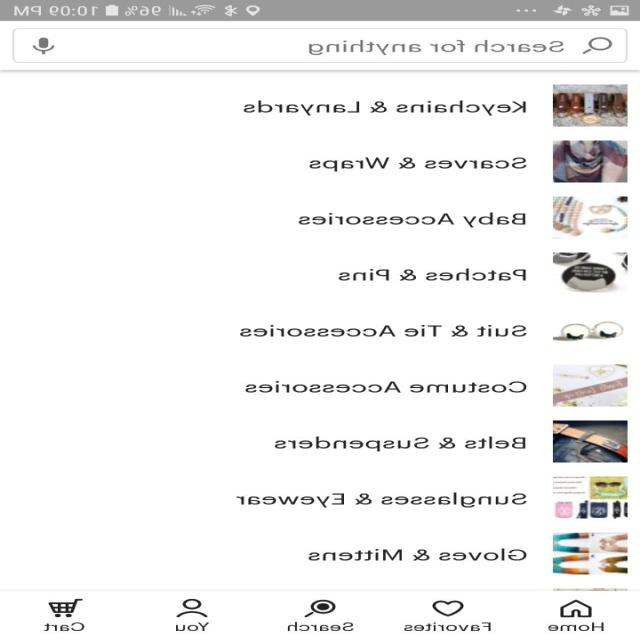EditText: (13, 28, 628, 63)
Icon: (49, 598, 85, 617), (176, 598, 209, 617), (304, 599, 337, 617), (559, 599, 592, 617), (432, 600, 465, 616), (582, 37, 612, 54), (33, 37, 55, 54)
Image: (552, 475, 628, 519), (552, 84, 628, 126), (552, 140, 628, 182), (552, 196, 628, 238), (552, 364, 628, 406), (552, 420, 628, 462), (552, 532, 628, 574), (552, 252, 628, 292), (553, 320, 625, 342)
Text: (236, 491, 528, 508), (243, 100, 528, 116), (274, 435, 526, 452), (308, 40, 564, 55), (245, 380, 527, 393), (240, 324, 527, 336), (298, 212, 526, 227), (309, 157, 527, 172), (308, 548, 528, 560), (338, 268, 528, 281), (404, 621, 492, 631), (287, 621, 355, 631), (548, 621, 604, 631), (44, 621, 86, 631), (176, 621, 210, 631)
